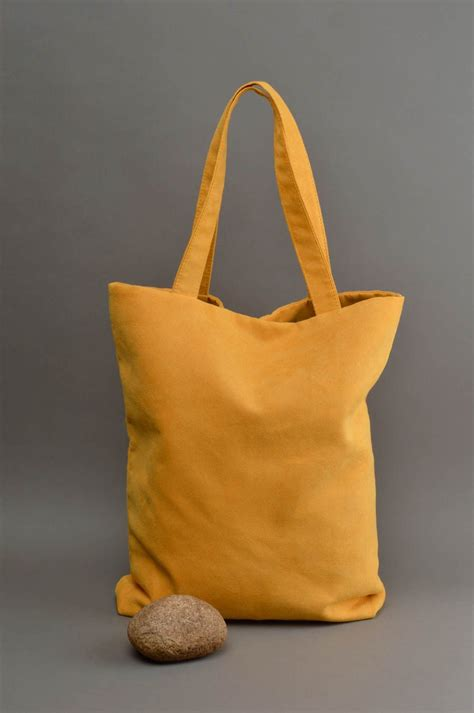gamuza: (104, 281, 402, 620)
